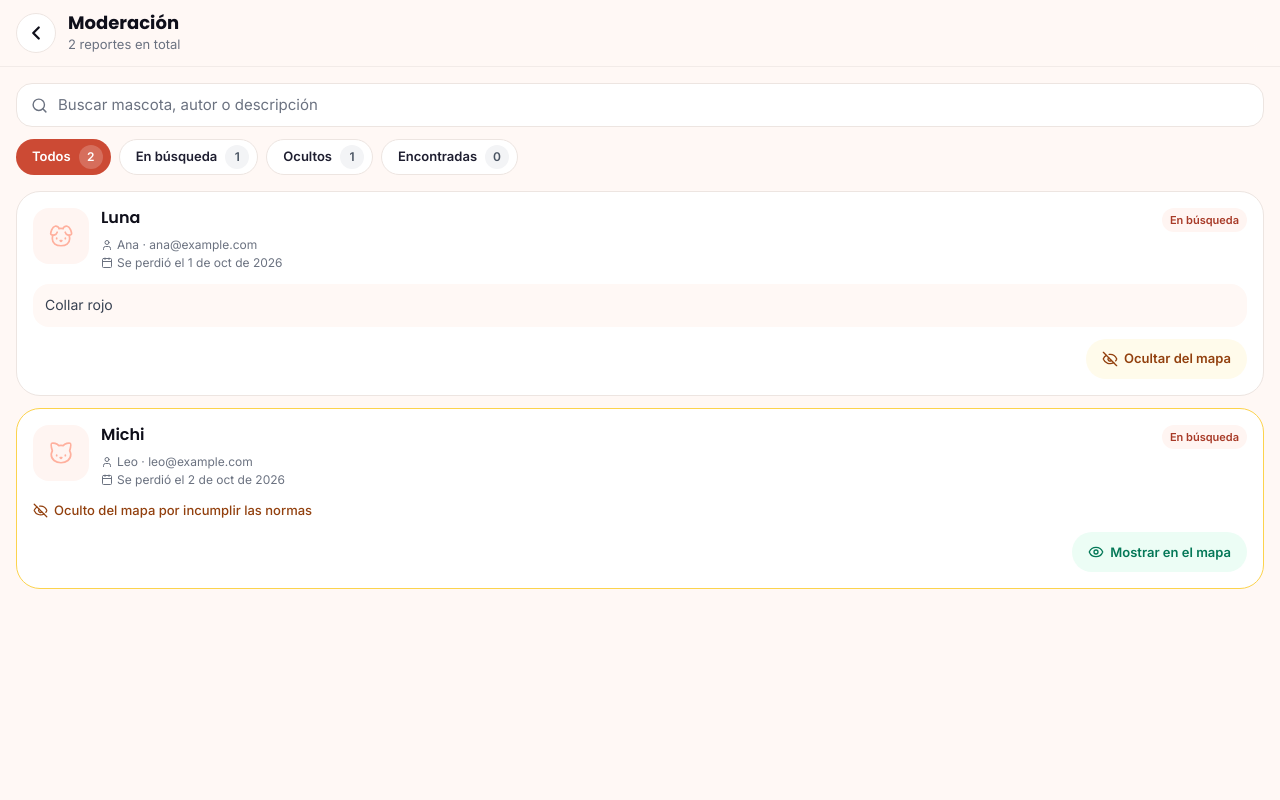
Test: Moderación de reportes › Volver a mostrar un reporte oculto es inmediato
The image size is (1280, 800).
Click the button with test id "btn-moderar-2": (1160, 552) [1072,532,1247,572]
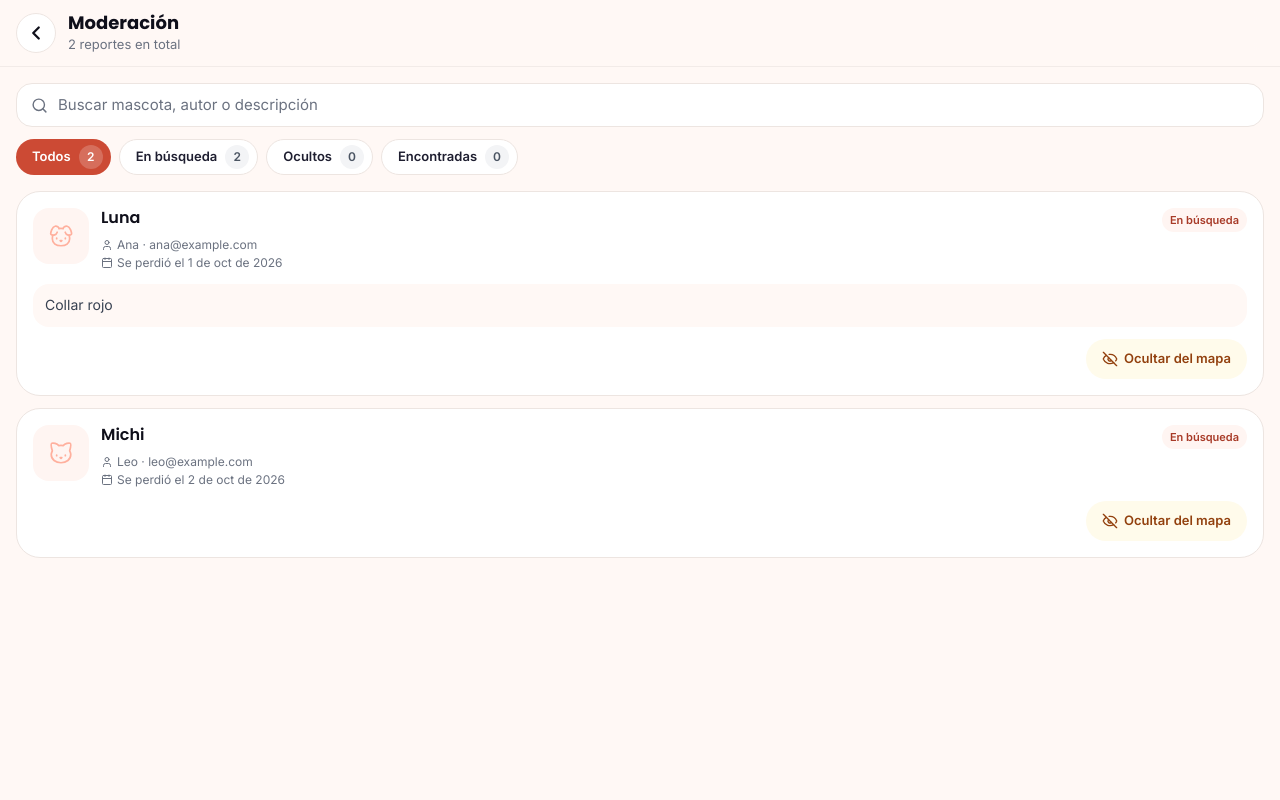
Result: the text "Oculto del mapa por incumplir" is gone
